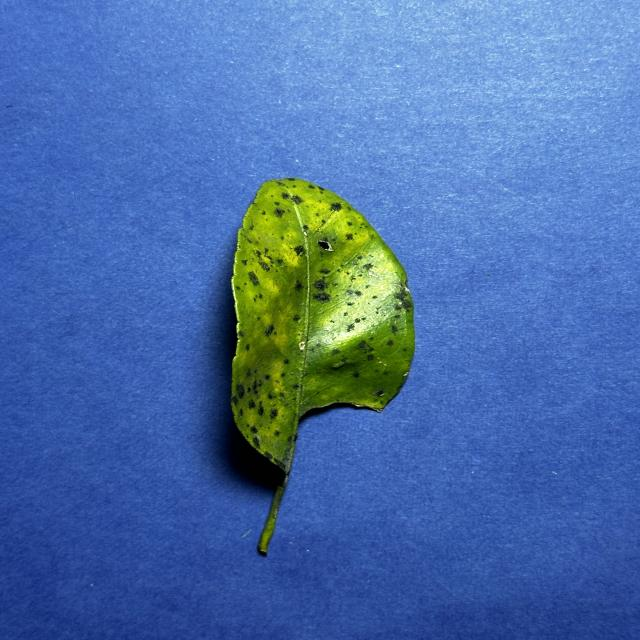sooty_mold: (231, 178, 414, 555)
